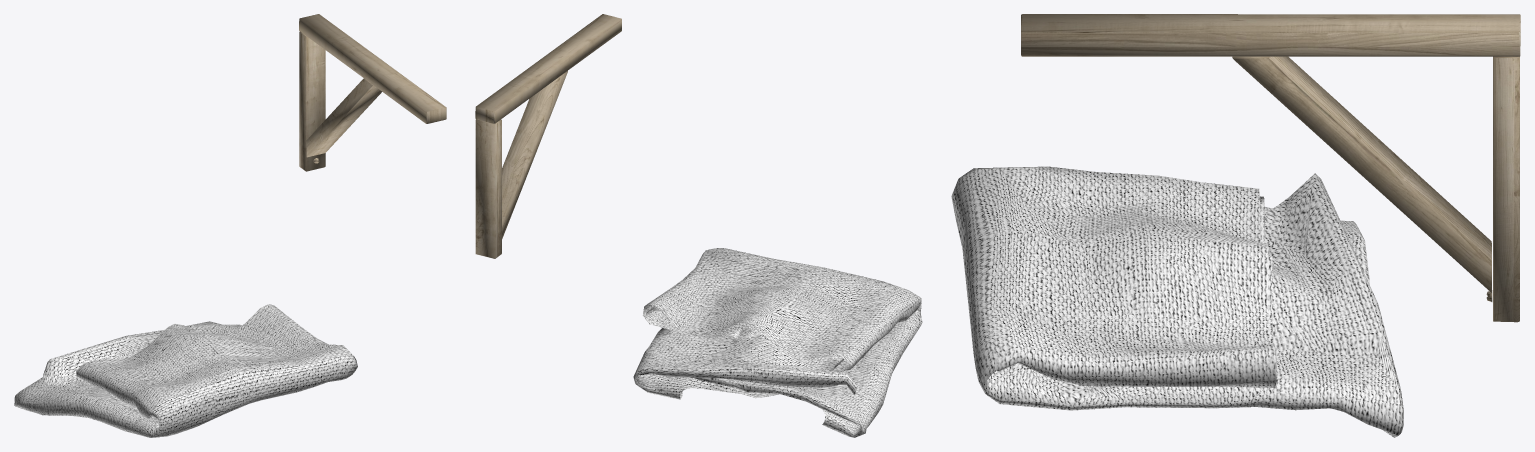
The model's file is rod-cloth030.glb.
3 views of the same model, side by side, from view 1: azimuth 30°, elevation 25°; view 2: azimuth 150°, elevation 25°; view 3: azimuth 270°, elevation 25° (orthographic). The views are drawn at different scales.
Visible parts, largest first — view 1: cloth030.001, wood_hanger5.001; view 2: cloth030.001, wood_hanger5.001; view 3: cloth030.001, wood_hanger5.001.
Part boxes in pixels (box(x1,y1,x2,y2)): cloth030.001: box(14, 304, 357, 437); wood_hanger5.001: box(299, 14, 446, 171); cloth030.001: box(633, 248, 922, 437); wood_hanger5.001: box(475, 14, 621, 258); cloth030.001: box(951, 166, 1403, 437); wood_hanger5.001: box(1021, 14, 1520, 322).
Size of the model in its own units: 0.5883 by 0.4553 by 0.4262.
Materials: 2 (2 with a texture image).
